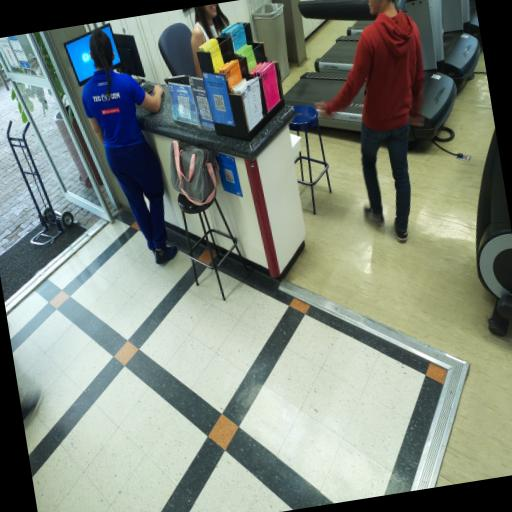person: (317, 0, 424, 242), (83, 29, 177, 264), (191, 4, 229, 77), (21, 389, 40, 425)
